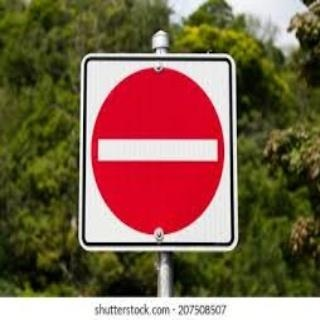sign_noentry: (87, 67, 226, 234)
